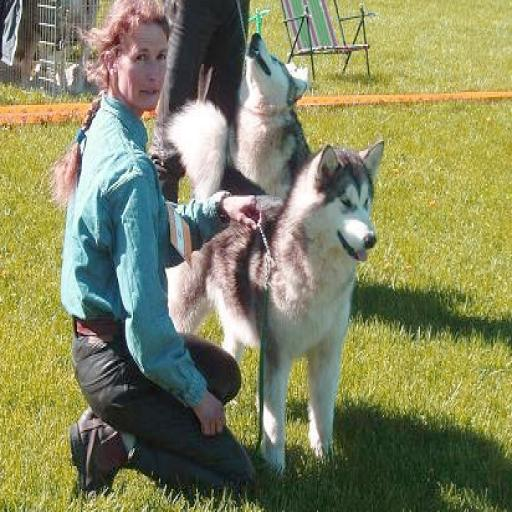dog_face: (310, 135, 393, 262), (244, 30, 311, 106)
